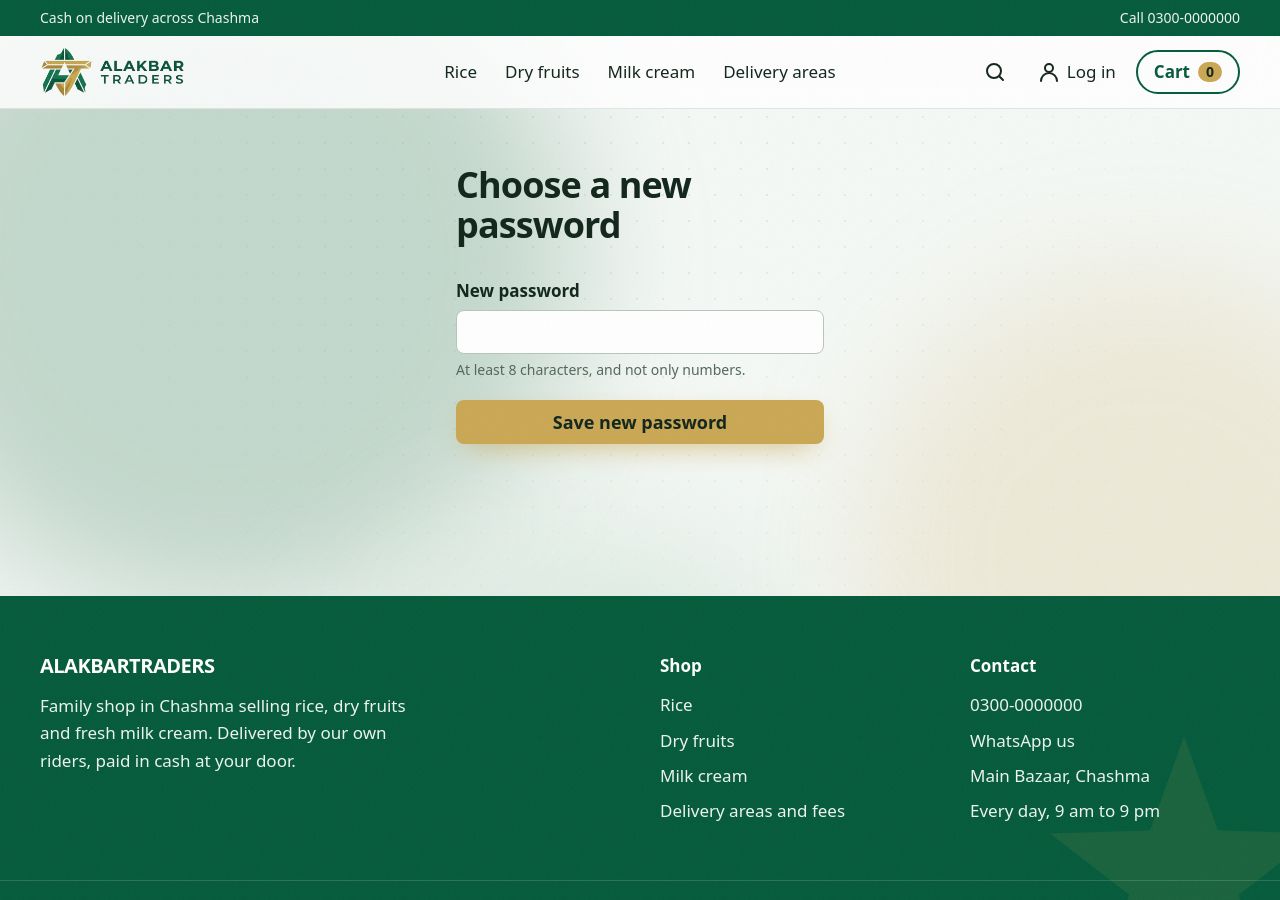
Test: password reset › sets the new password from the link
Type "New-Kainat-Rice-9" into the password field labelled "New password" at (640, 332), box [456,310,824,354]
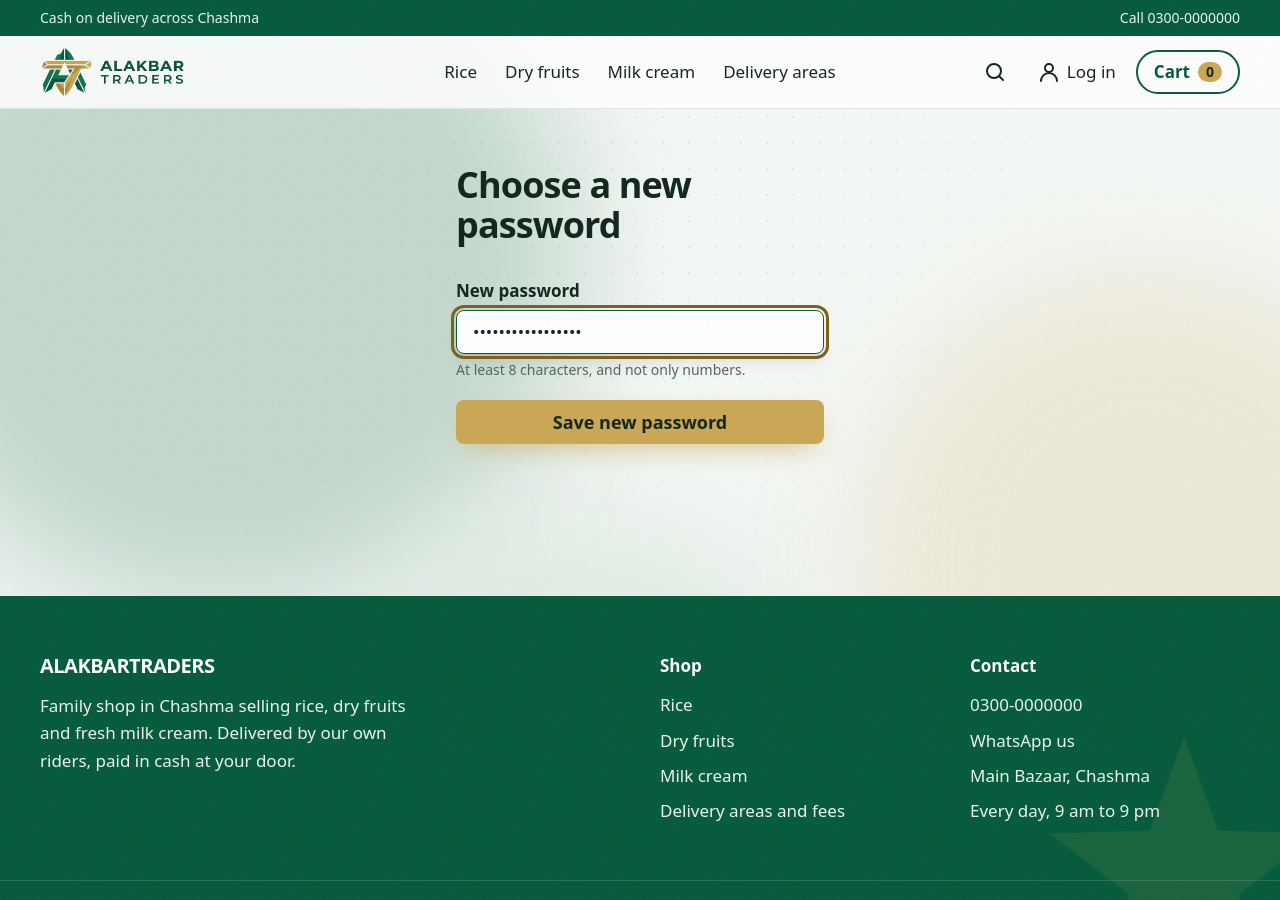
Click the button "Save new password" at (640, 422), box [456,400,824,444]
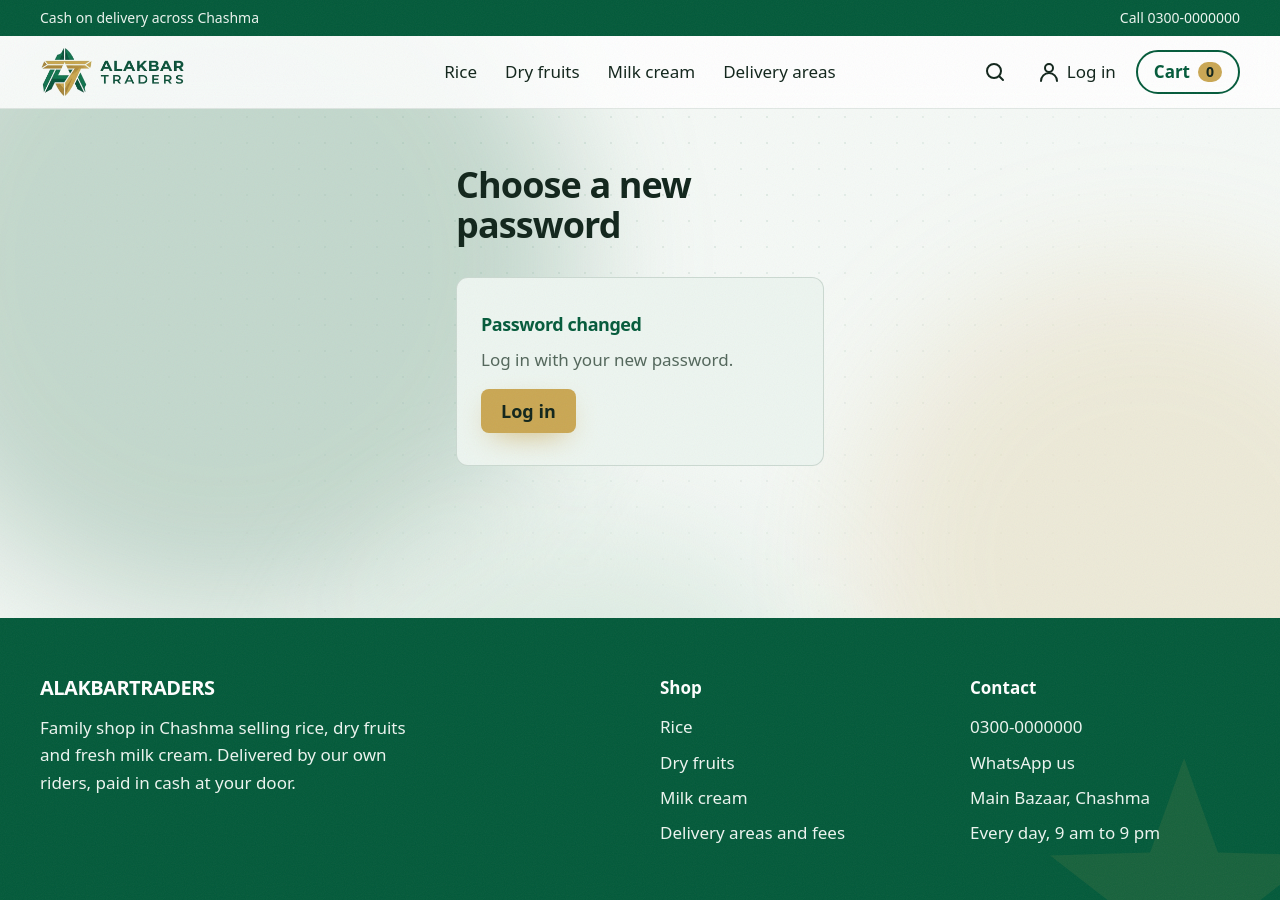
Now the message shows "Password changed", box [481,312,642,336]
